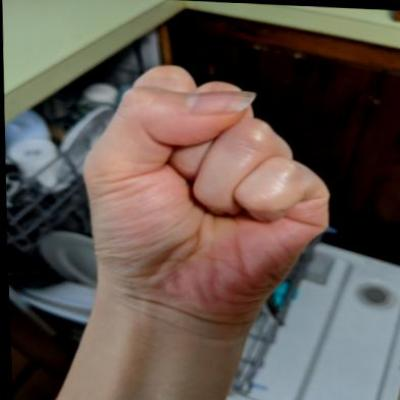hand: (70, 57, 341, 339)
